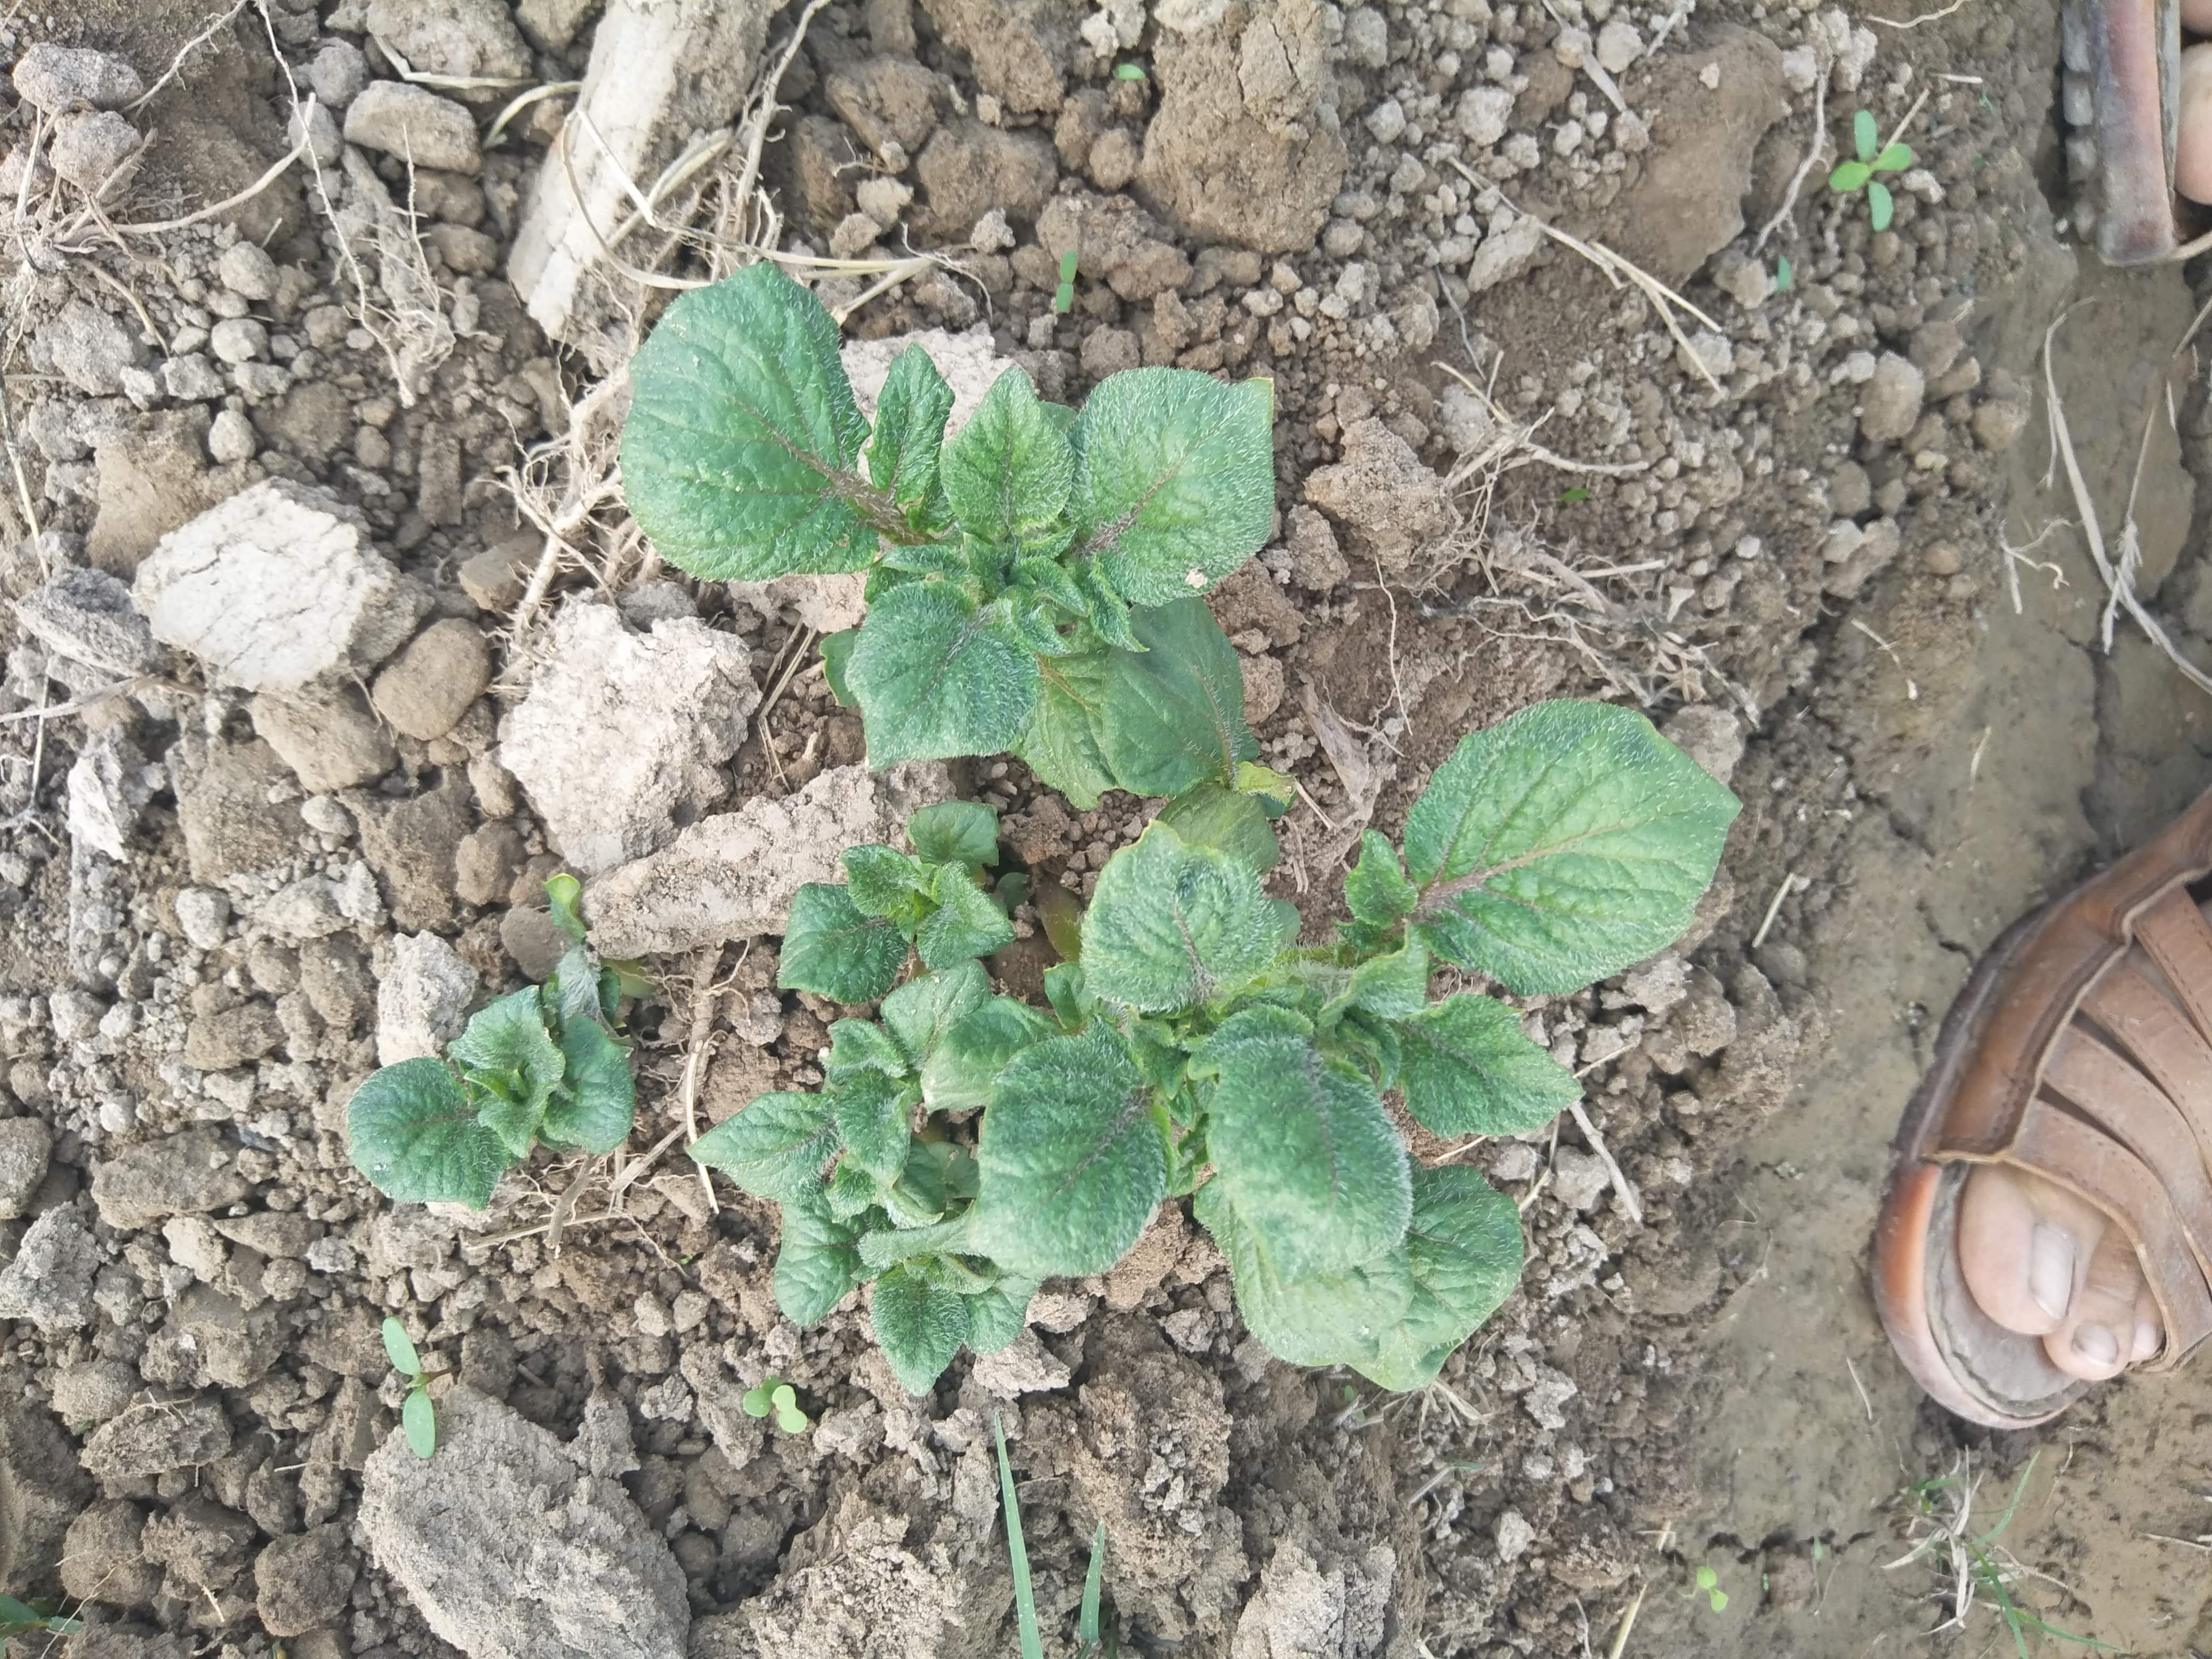daun: (1383, 701, 1737, 992), (617, 258, 894, 572), (1090, 361, 1278, 605), (981, 1021, 1158, 1262), (1205, 1051, 1407, 1262), (1069, 826, 1287, 1021), (1367, 1147, 1545, 1382), (1324, 978, 1578, 1140), (845, 582, 1029, 760), (1066, 612, 1242, 796), (937, 369, 1062, 538), (888, 971, 1033, 1114), (350, 1072, 502, 1202), (1231, 1269, 1413, 1368), (465, 988, 561, 1157), (864, 336, 948, 528), (826, 1028, 918, 1176), (869, 1262, 967, 1392), (686, 1107, 841, 1187), (904, 870, 1017, 969), (779, 892, 888, 992), (989, 565, 1099, 660), (561, 1014, 627, 1161), (775, 1202, 855, 1316), (1341, 836, 1411, 936)
